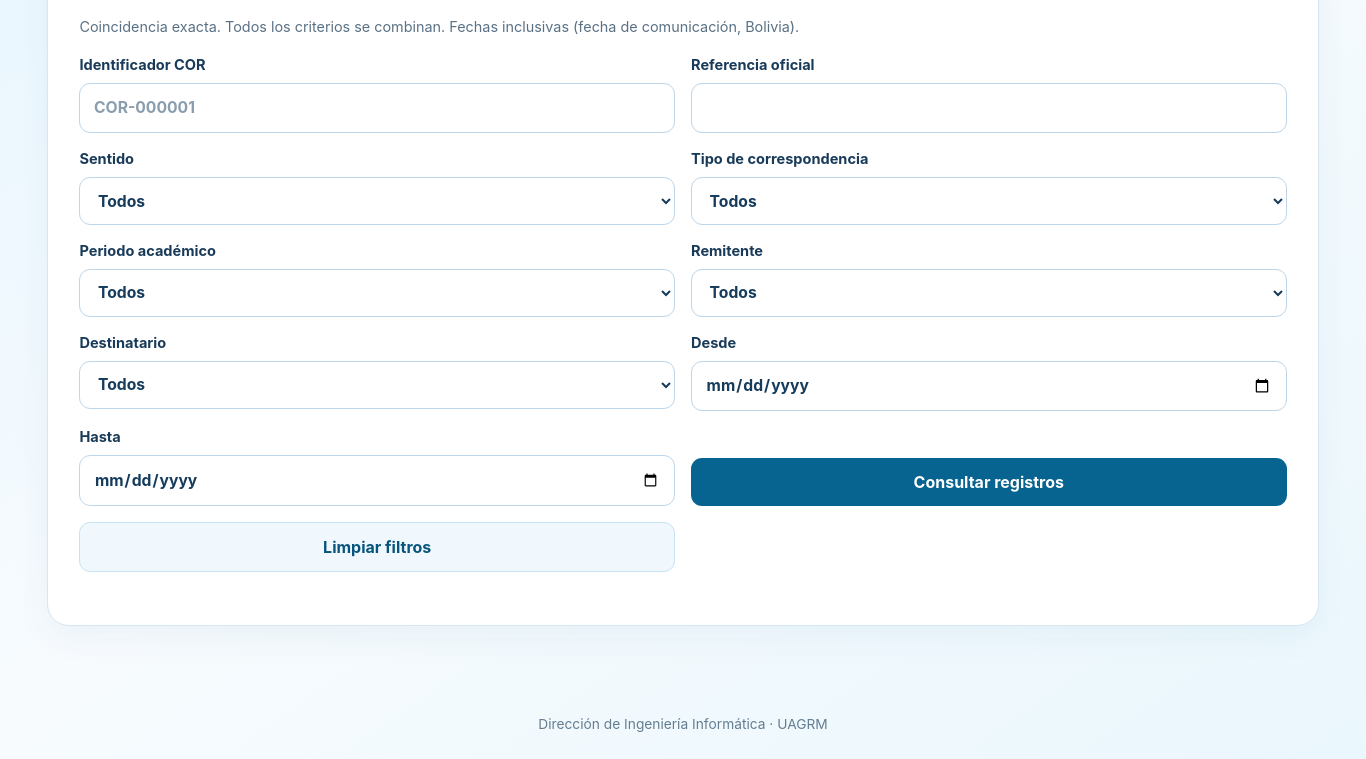
Test case: CU-33 interfaz de consulta convencional › presenta resultado vacío sin tratarlo como error
The image size is (1366, 759).
(page scrolled)
Click the button "Consultar registros": (989, 482) [691,458,1287,506]
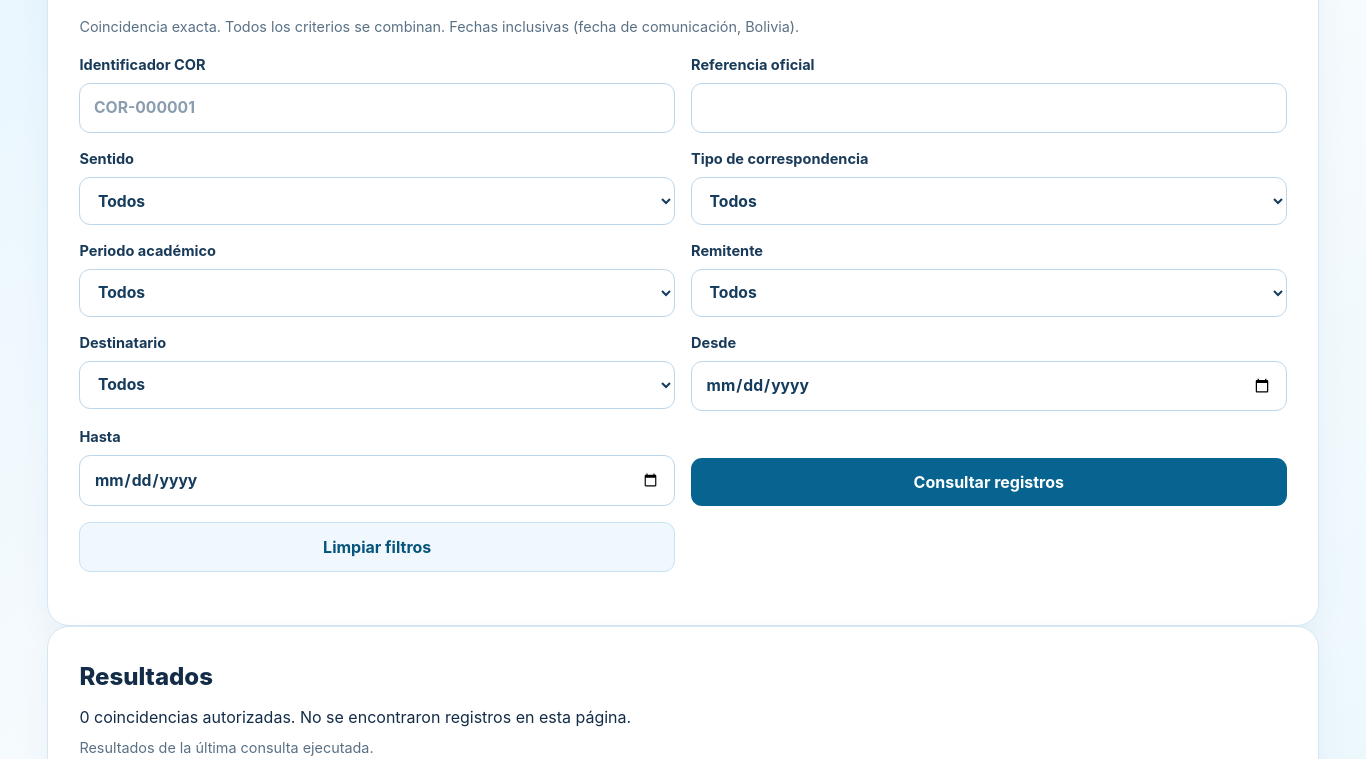
Result: the text "0 coincidencias autorizadas. No se encontraron registros en esta página." is shown at [79,707,631,727]
